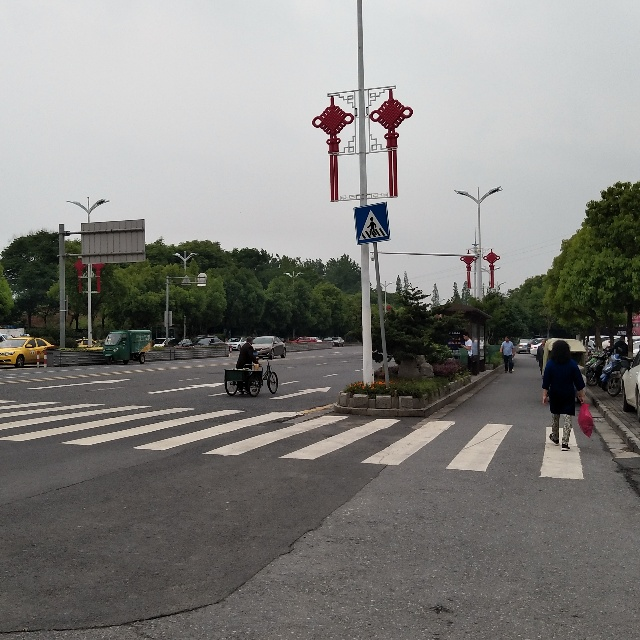crosswalk: (353, 201, 391, 247)
